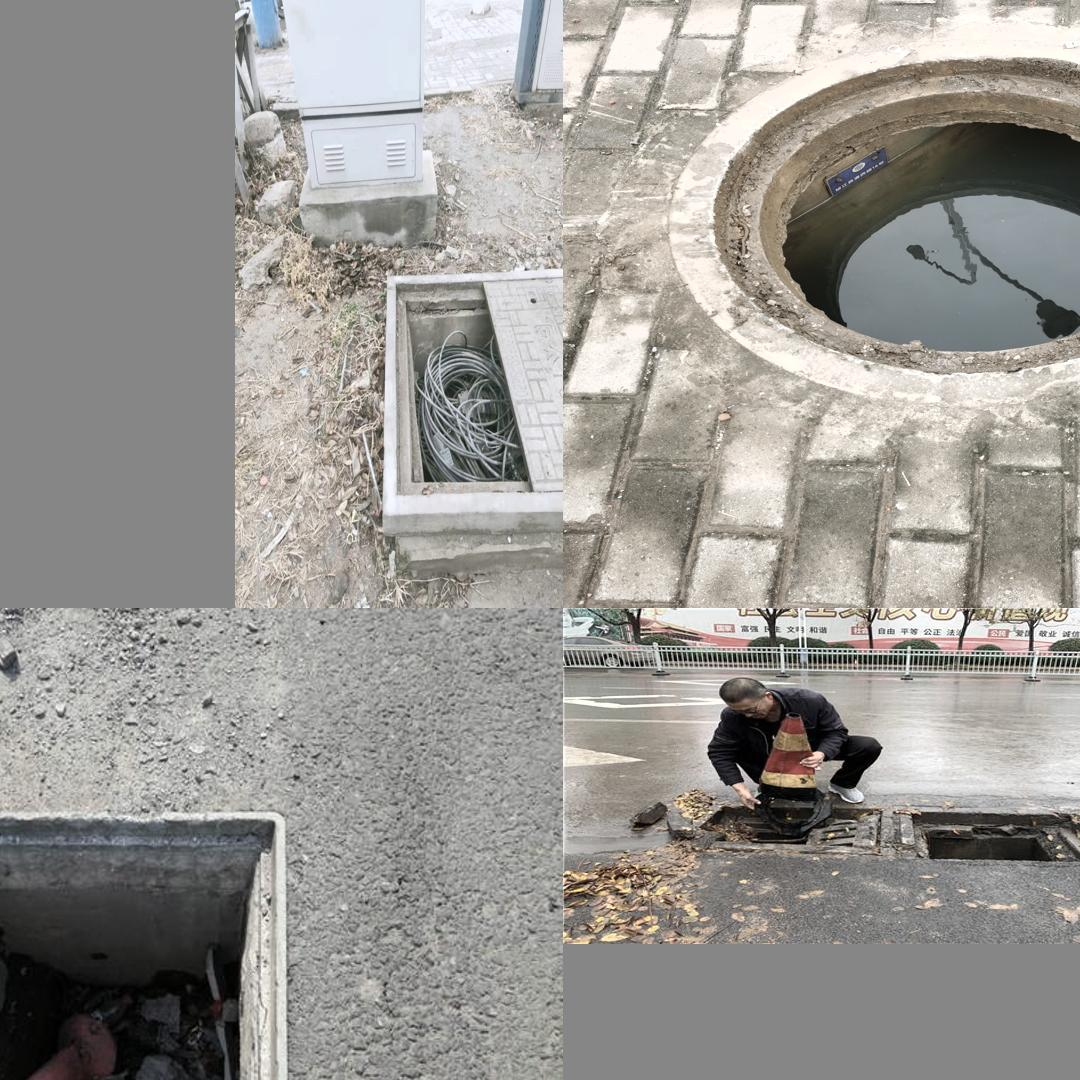lose: (664, 40, 1080, 403), (0, 775, 326, 1080), (381, 268, 562, 535), (661, 786, 1080, 875)
